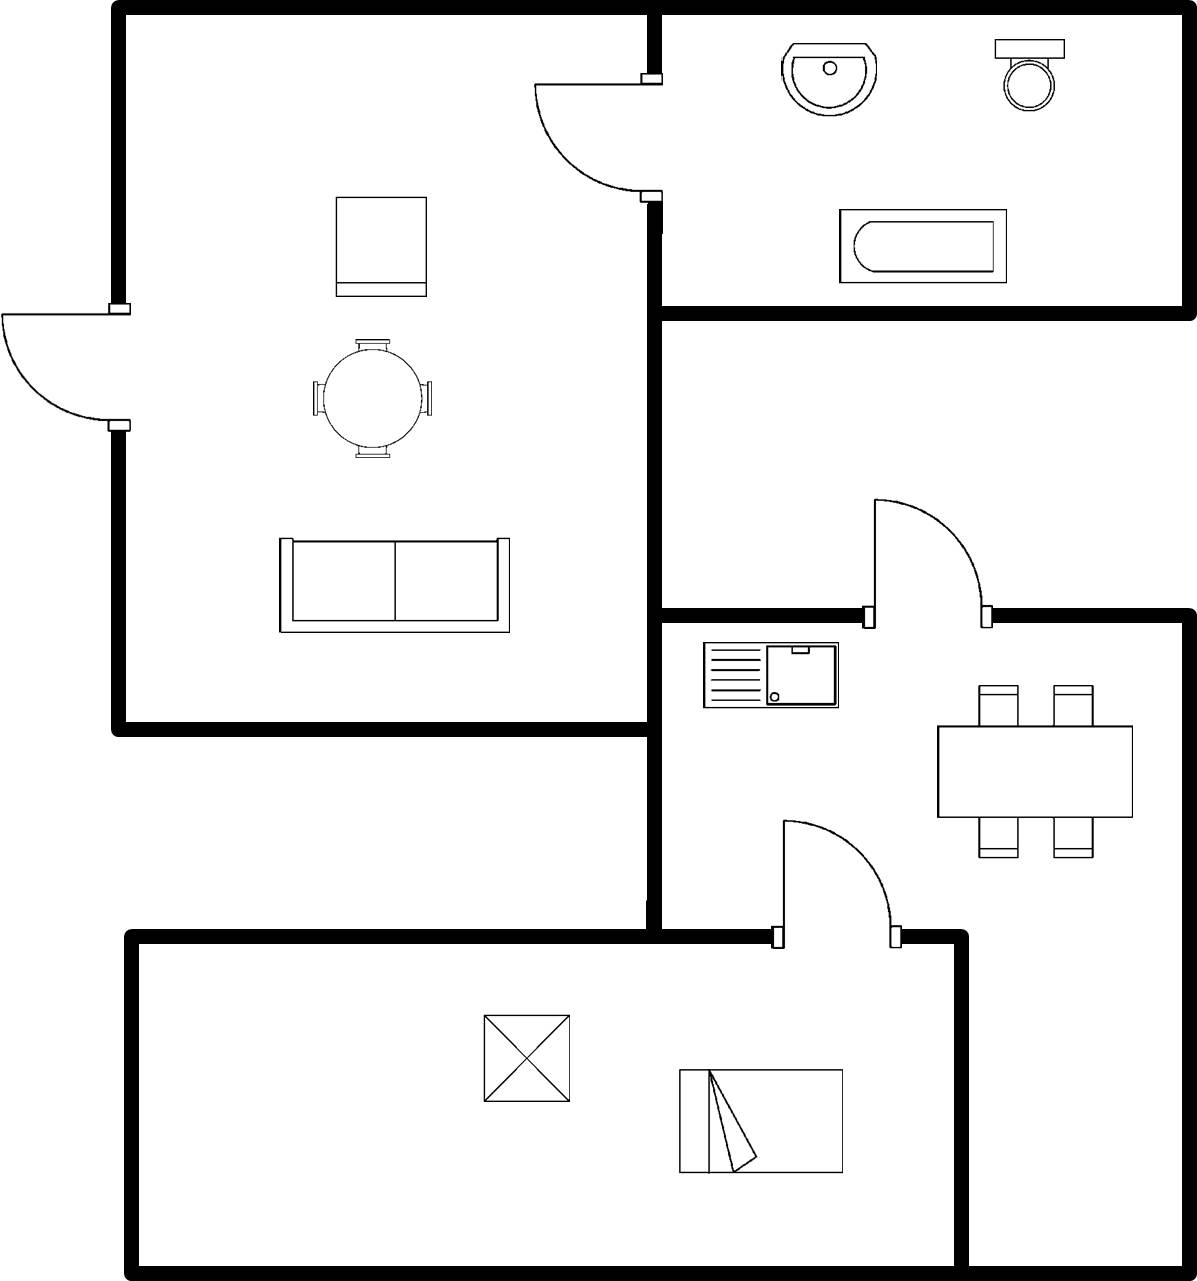bed: (669, 1063, 854, 1185)
coffee_table: (475, 1004, 579, 1108)
dining_table: (924, 670, 1151, 868)
large_sink: (985, 28, 1076, 116)
large_sofa: (269, 529, 520, 640)
round_table: (303, 333, 440, 471)
sink: (690, 634, 849, 719)
small_sink: (770, 34, 884, 126)
small_sofa: (328, 189, 438, 306)
tub: (828, 200, 1018, 293)
